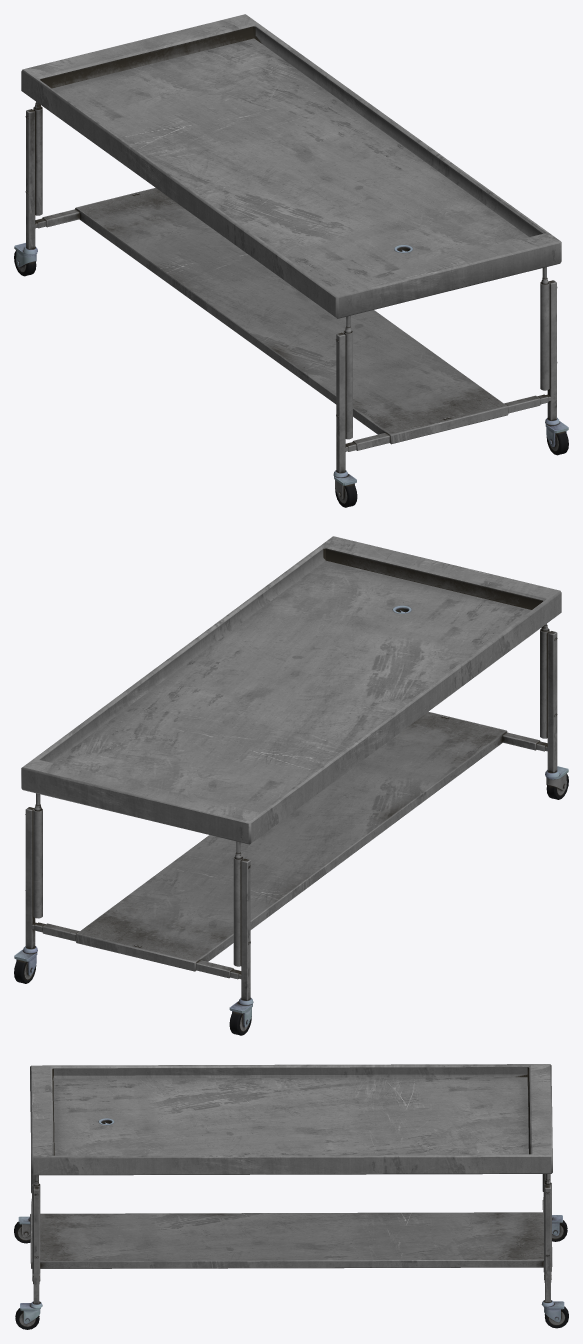
Rendered from Medical table.fbx.
3 views of the same model, one above another, from view 1: azimuth 30°, elevation 25°; view 2: azimuth 150°, elevation 25°; view 3: azimuth 270°, elevation 25° (orthographic). The views are drawn at different scales.
Visible parts, largest first — view 1: Medical Table; view 2: Medical Table; view 3: Medical Table.
Part boxes in pixels (<box>): Medical Table: <box>14,14,568,507</box>; Medical Table: <box>14,536,568,1035</box>; Medical Table: <box>14,1064,568,1329</box>.
Size of the model in its own units: 1.39 by 1.2 by 3.46.
Materials: 1 (1 with a texture image).
